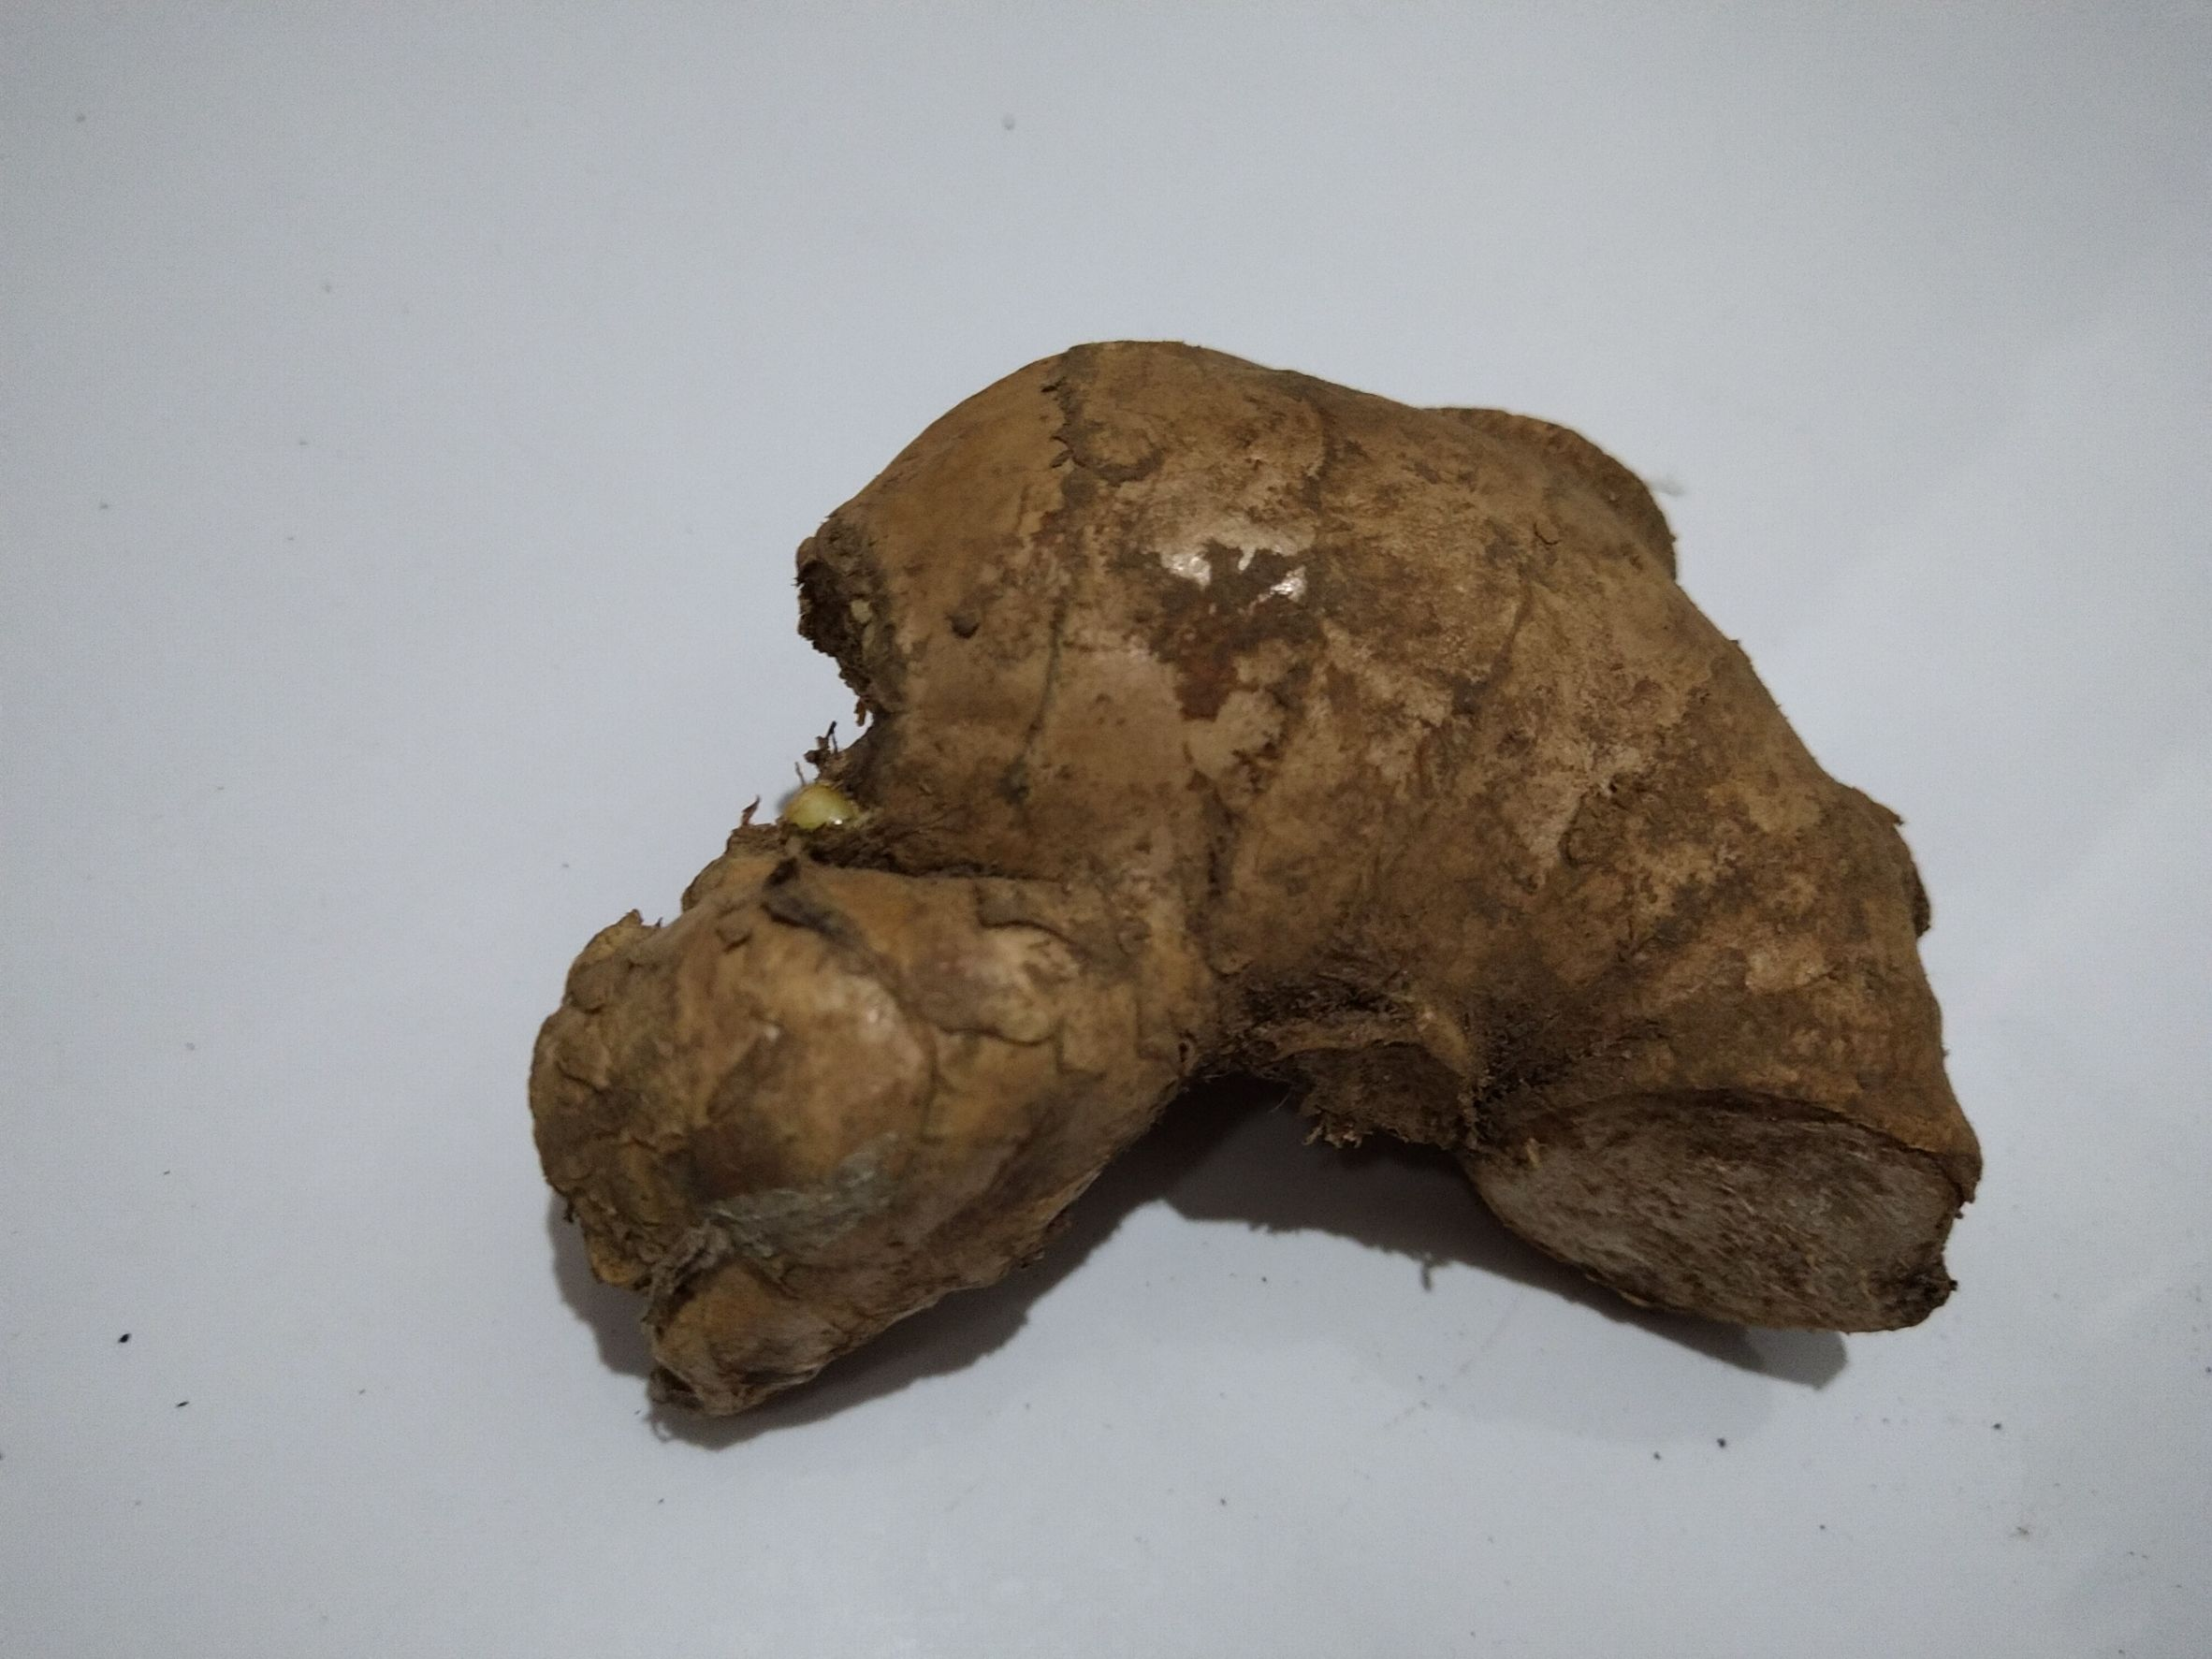Jahe: (561, 349, 1980, 1459)
